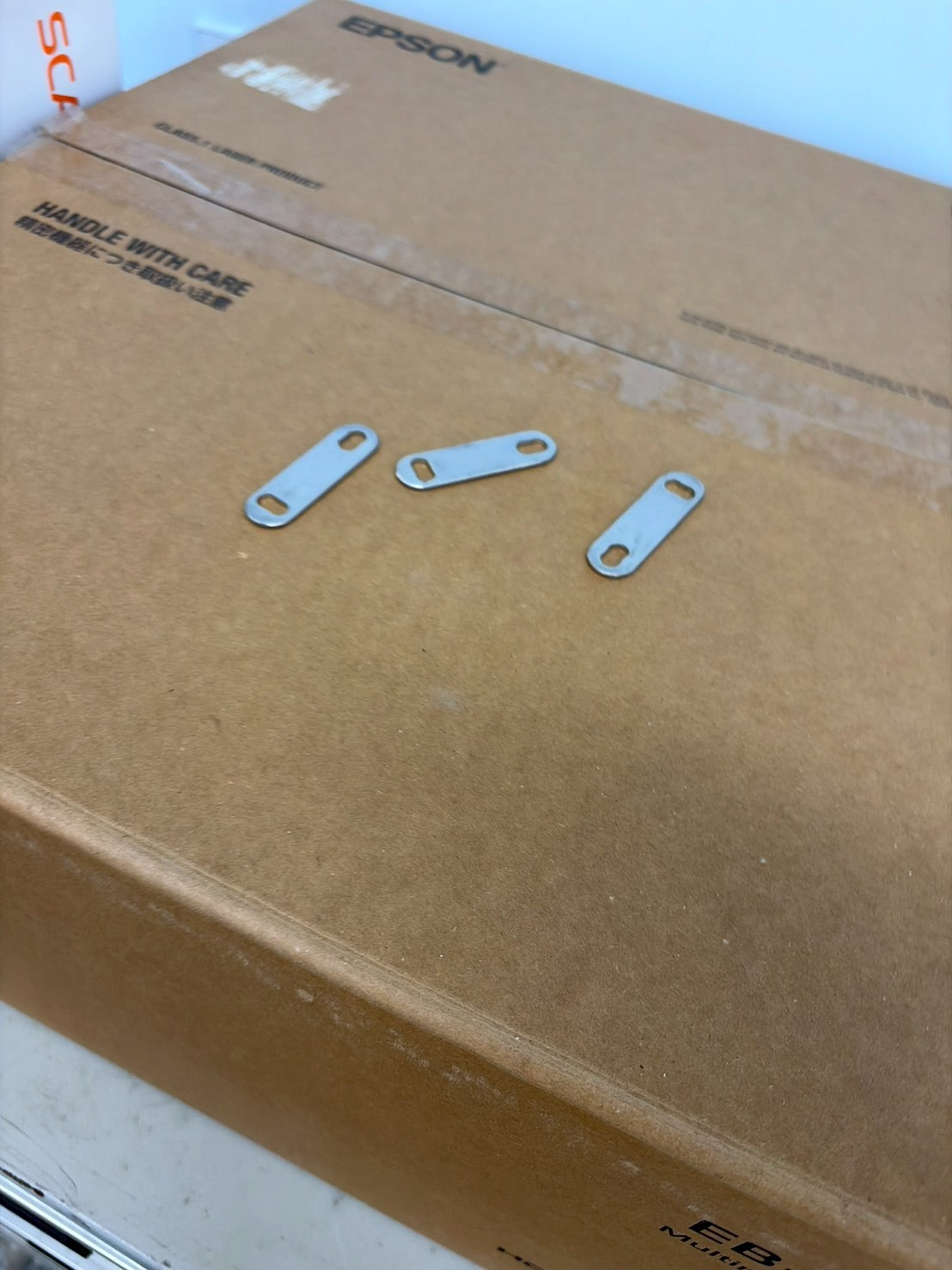Fe: (230, 411, 386, 542), (582, 468, 710, 585), (395, 414, 552, 503)
